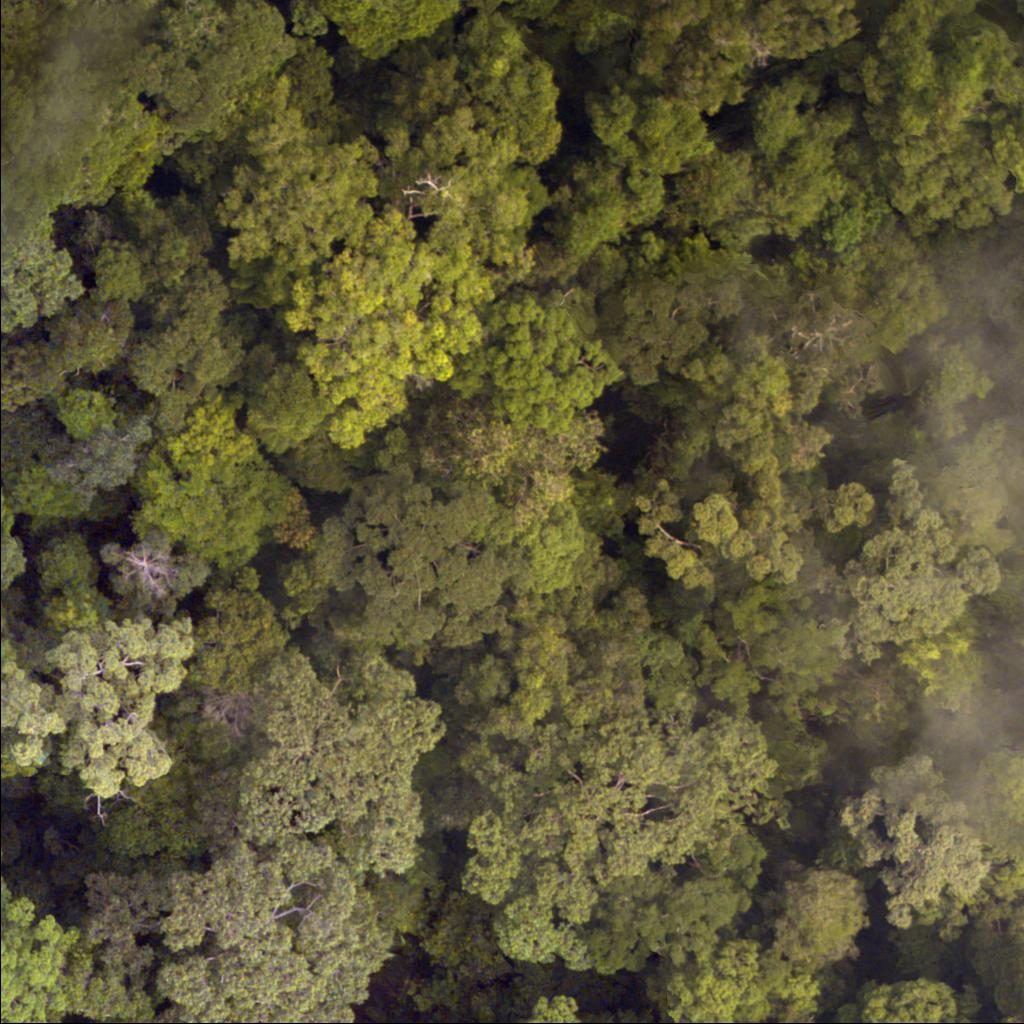crown: (460, 669, 776, 973), (281, 206, 509, 455), (317, 461, 541, 651), (0, 615, 201, 805), (397, 22, 561, 251), (225, 120, 378, 265), (458, 292, 608, 432), (128, 446, 233, 566), (0, 887, 90, 1023), (192, 575, 285, 697), (39, 412, 152, 505), (98, 530, 207, 616), (0, 403, 68, 467), (32, 531, 101, 590), (53, 386, 115, 442), (92, 242, 143, 300), (0, 0, 52, 56), (45, 587, 110, 629), (502, 996, 582, 1023)
